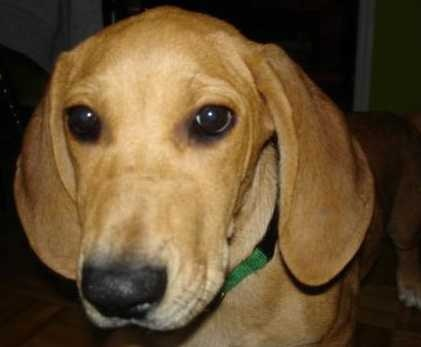Dog: (15, 8, 288, 329)
